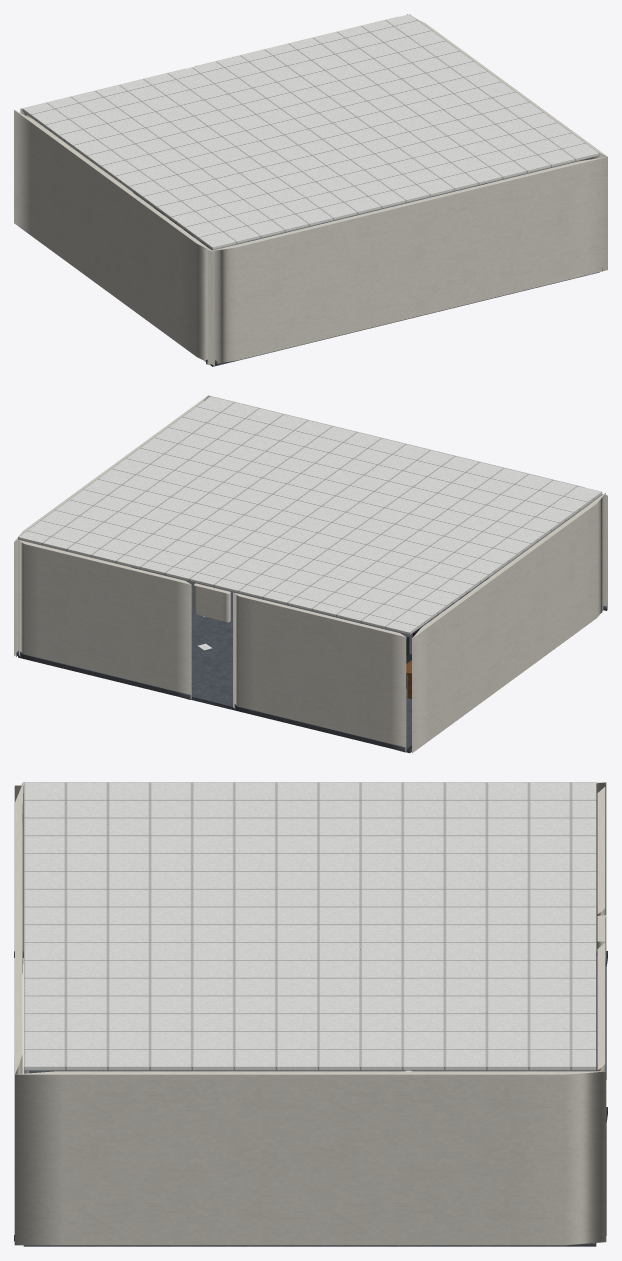
The model's file is conference_room.glb.
3 renders of one model, top to bottom at view 1: azimuth 30°, elevation 25°; view 2: azimuth 150°, elevation 25°; view 3: azimuth 270°, elevation 25°, orthographic. The views are drawn at different scales.
Visible parts, largest first — view 1: Conference_Room; view 2: Conference_Room; view 3: Conference_Room.
Part boxes in pixels (<box>): Conference_Room: <box>14,14,607,366</box>; Conference_Room: <box>14,395,607,753</box>; Conference_Room: <box>14,782,607,1246</box>.
Size of the model in its own units: 10.29 by 2.94 by 8.82.
11 materials, 8 textured.
